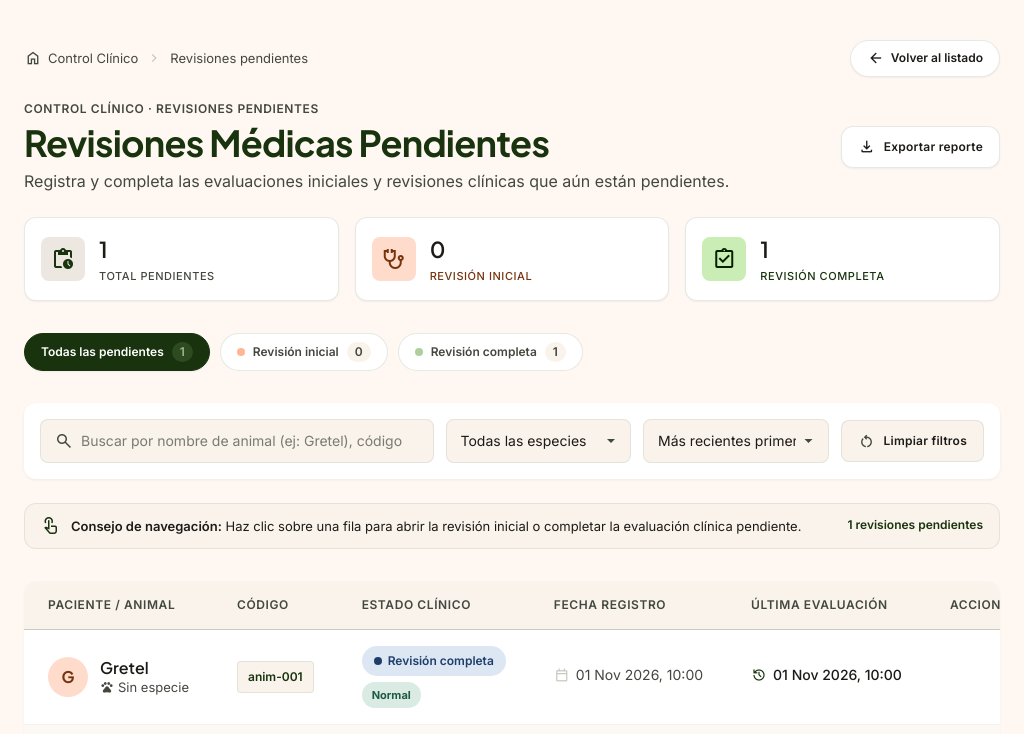
Test case: RegistroMedicoPage › muestra un error si falla la generación del PDF
This screenshot has width=1024, height=734.
Expected: the button with aria-label "Ver ficha médica de Gretel anim-001" is shown, [24,629,1000,724]
Click the button "Exportar reporte" at (920, 147), box [841,126,1000,168]
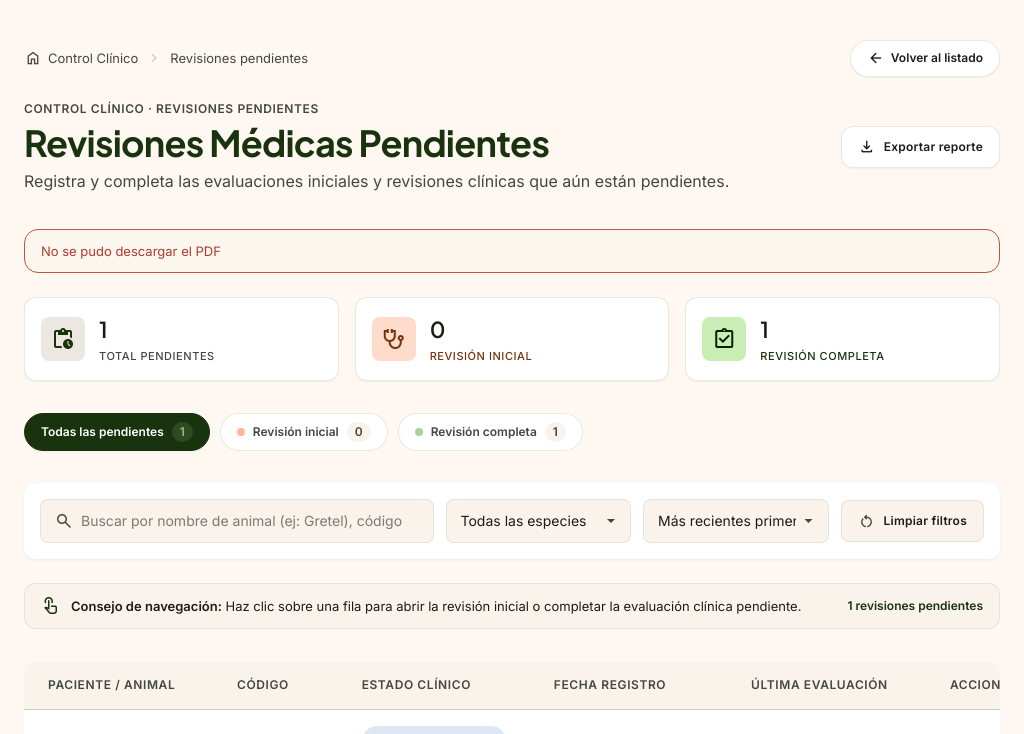
Now the text "No se pudo descargar el PDF" is shown, box [24,229,1000,273]
